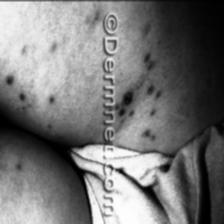Toxin: (114, 90, 136, 119)
